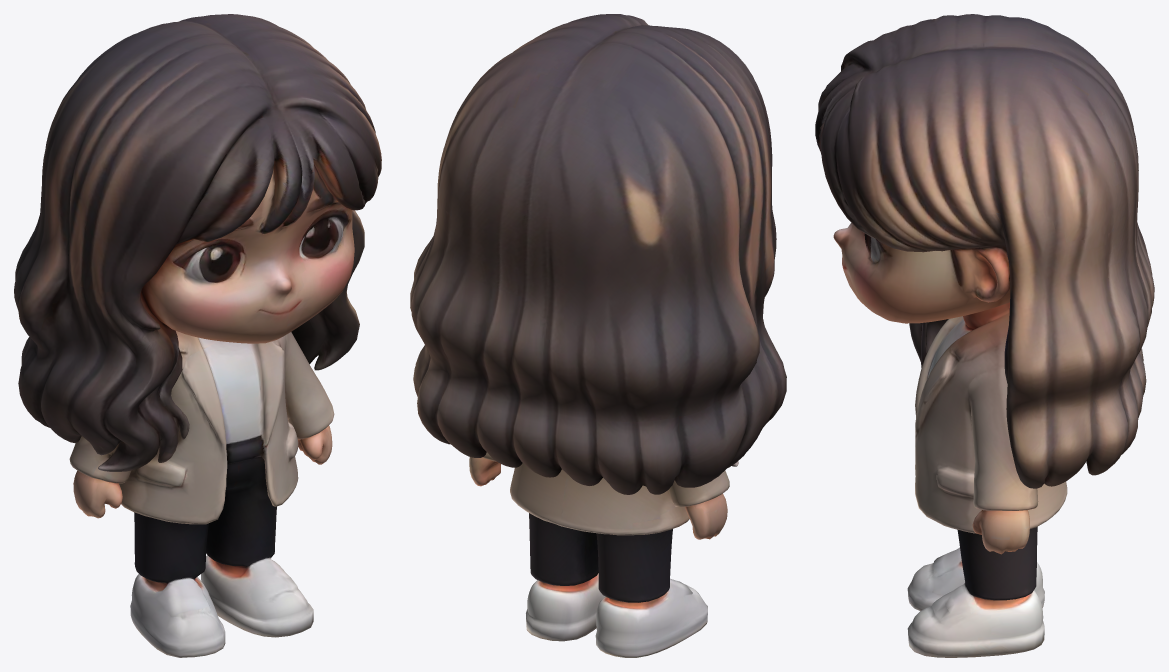
The model's file is jumin-character.glb.
The picture shows the model from 3 angles, left to right: view 1: azimuth 30°, elevation 25°; view 2: azimuth 150°, elevation 25°; view 3: azimuth 270°, elevation 25°; orthographic projection.
Visible parts, largest first — view 1: model; view 2: model; view 3: model.
Boxes of the visible parts, x1,y1,x2,y2 form: model: [14, 14, 381, 657]; model: [410, 14, 786, 657]; model: [815, 14, 1154, 657].
Size of the model in its own units: 1.03 by 1.71 by 0.8911.
Materials: 1 (1 with a texture image).
